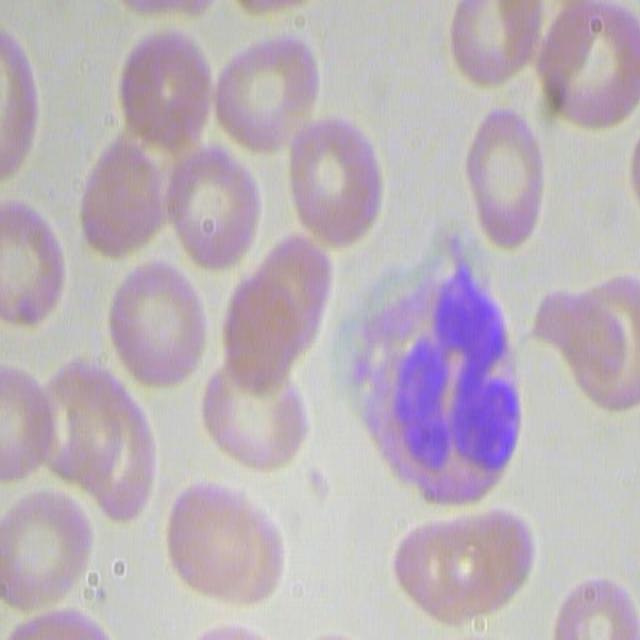RBC: (30, 360, 163, 530), (198, 7, 322, 174), (387, 505, 529, 628), (146, 143, 261, 284), (219, 233, 333, 374), (112, 6, 215, 162), (162, 483, 288, 610), (106, 258, 210, 409), (280, 112, 386, 259), (528, 1, 638, 134), (464, 103, 547, 257), (201, 358, 310, 475), (78, 133, 174, 262), (552, 273, 640, 413), (0, 484, 90, 614), (441, 0, 546, 86), (0, 200, 66, 335), (0, 349, 46, 496), (0, 24, 43, 179), (549, 574, 640, 640)
WBC: (380, 265, 517, 496)
